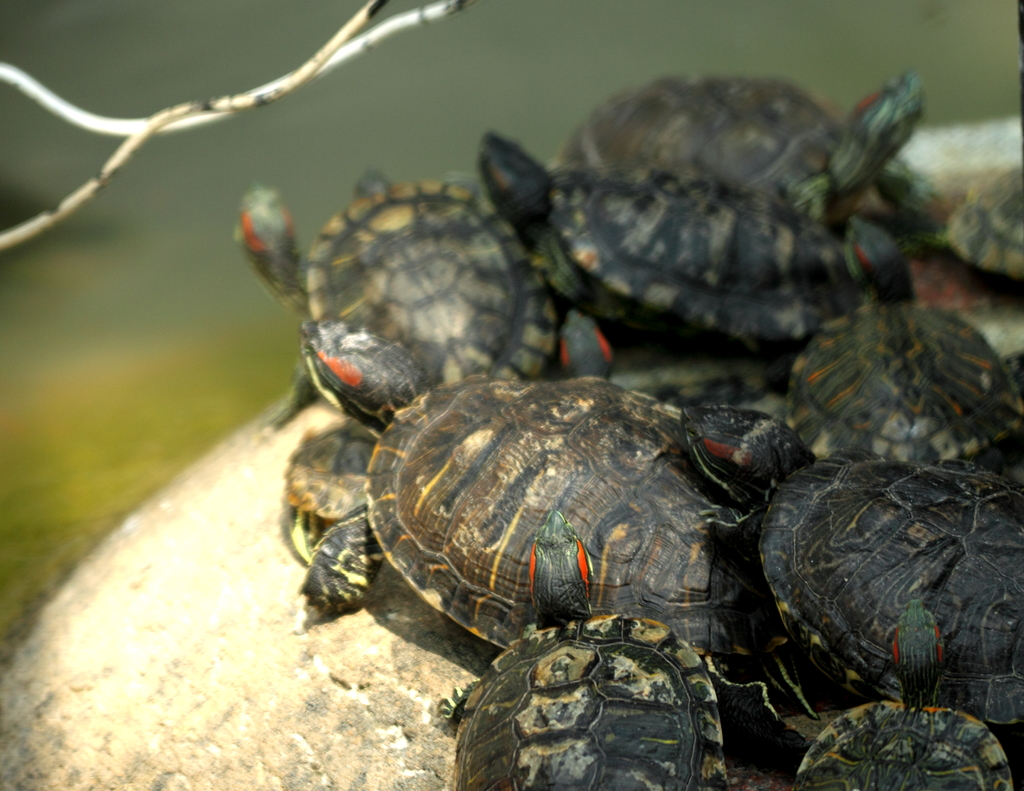Sea turtles: (231, 63, 1023, 790)
